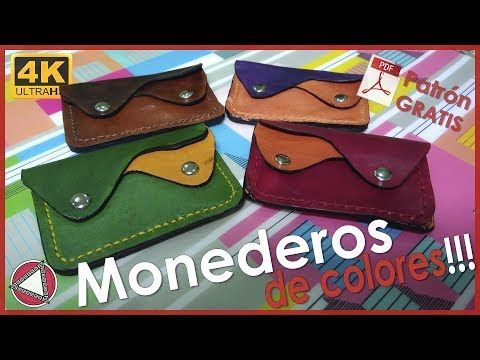cuero: (21, 59, 436, 271)
